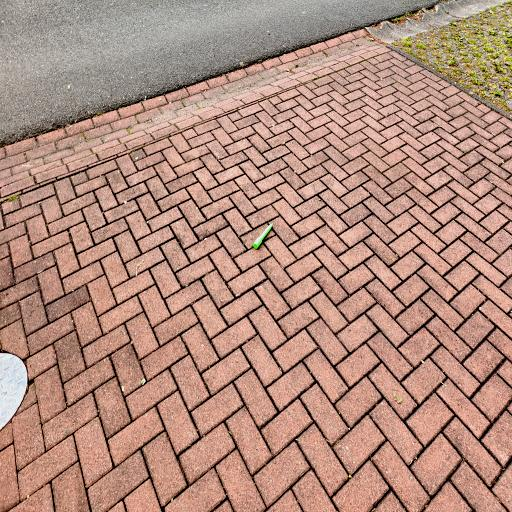Probe-Detection: (253, 224, 273, 249)
